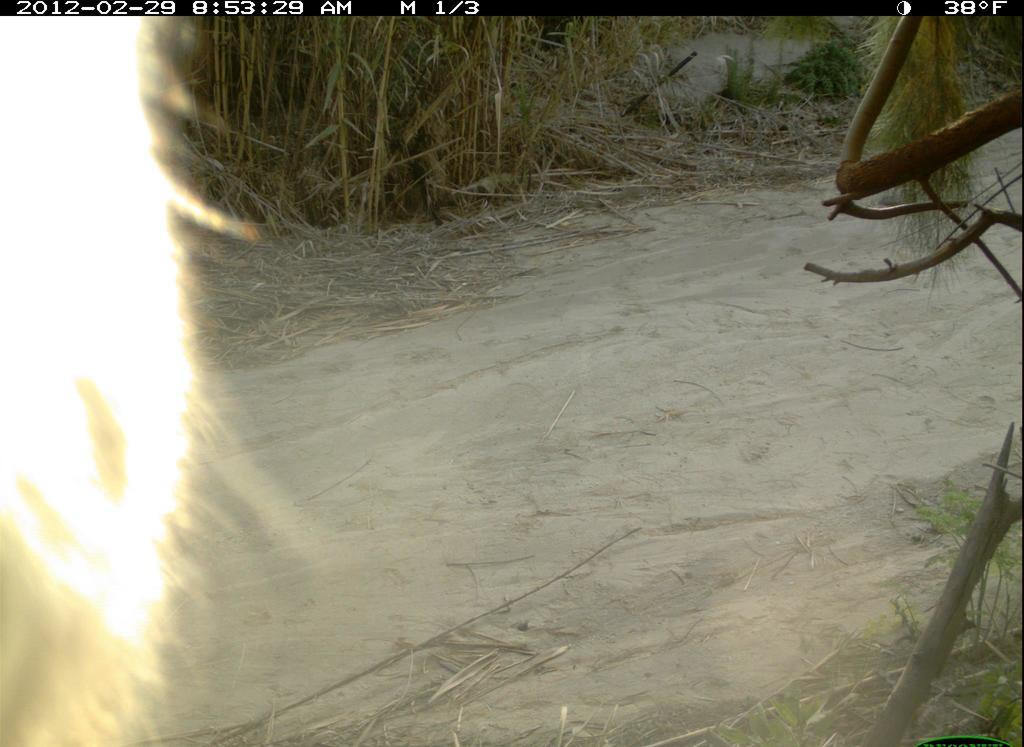coyote: (1, 13, 257, 747)
